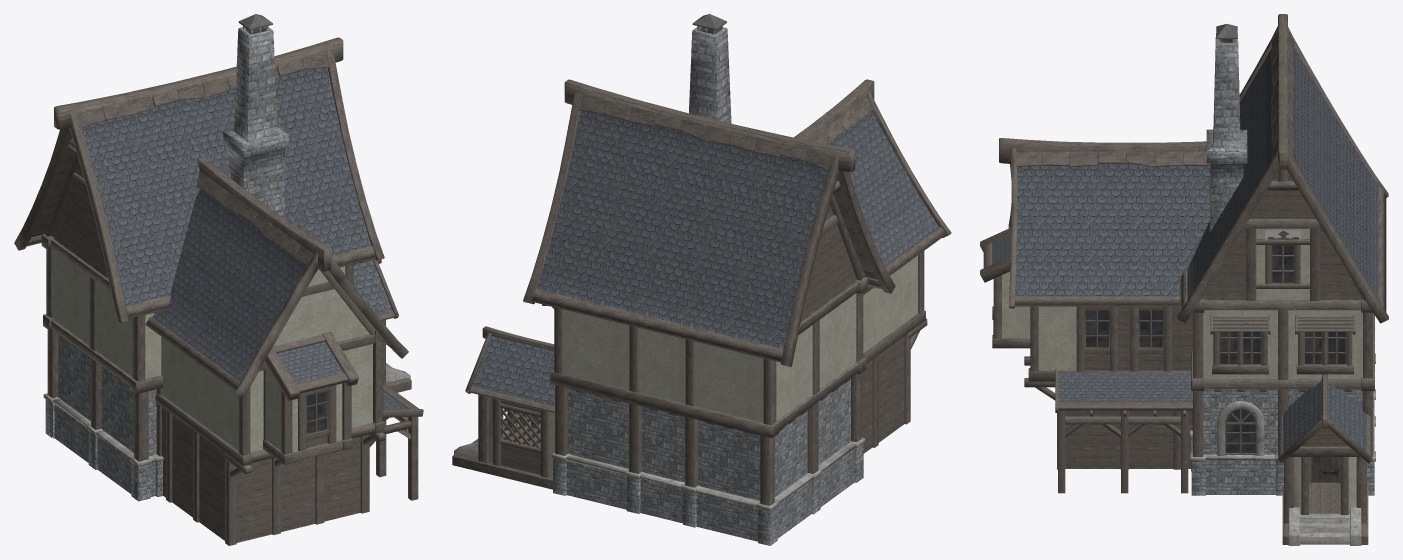
Rendered from manor.glb.
3 renders of one model, left to right at view 1: azimuth 30°, elevation 25°; view 2: azimuth 150°, elevation 25°; view 3: azimuth 270°, elevation 25°, orthographic. The views are drawn at different scales.
Visible parts, largest first — view 1: manor; view 2: manor; view 3: manor.
Part boxes in pixels (x1,y1,x2,y2): manor: (14,14,423,545); manor: (452,14,951,545); manor: (980,14,1388,545).
Bounding box in the file's own units: 10.69 × 12.6 × 10.77.
1 material, 1 textured.
